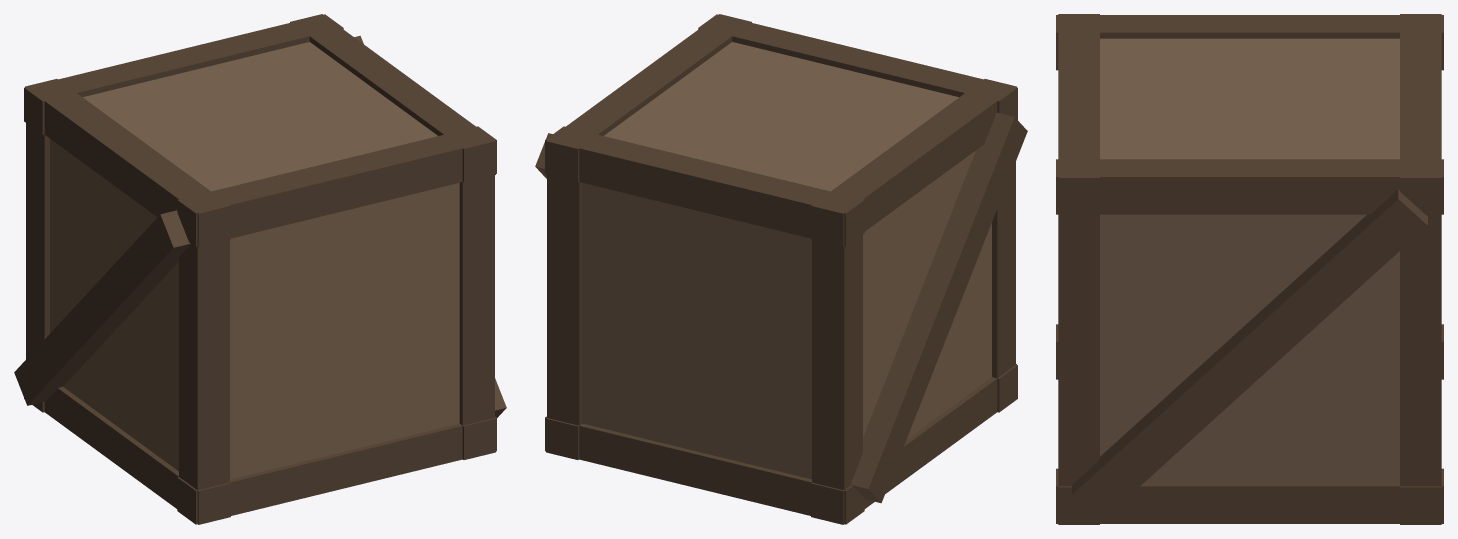
Rendered from crate.glb.
3 renders of one model, left to right at view 1: azimuth 30°, elevation 25°; view 2: azimuth 150°, elevation 25°; view 3: azimuth 270°, elevation 25°, orthographic. The views are drawn at different scales.
Parts seen in each view (by area): view 1: crate; view 2: crate; view 3: crate.
Part boxes in pixels (bbox=[...]): crate: bbox=[14, 14, 506, 524]; crate: bbox=[535, 14, 1027, 524]; crate: bbox=[1056, 14, 1443, 524].
Size of the model in its own units: 0.93 by 0.83 by 0.84.
Materials: 1 (1 with a texture image).
